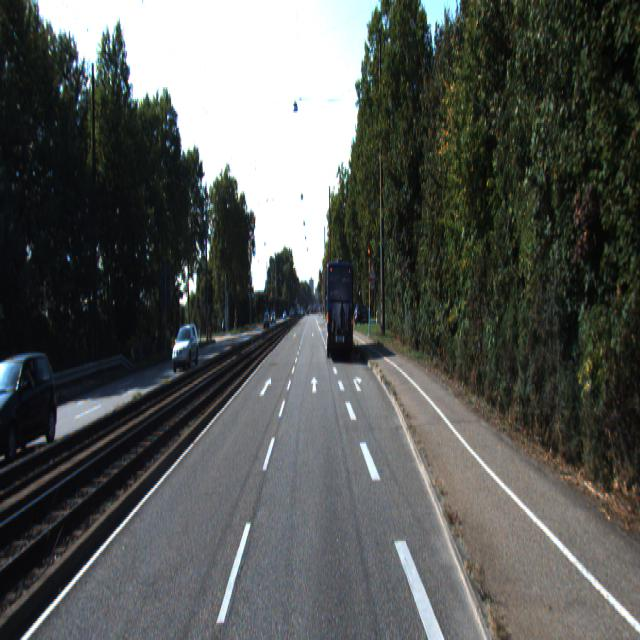Car: (0, 341, 64, 462), (327, 261, 355, 362), (169, 321, 200, 374)
